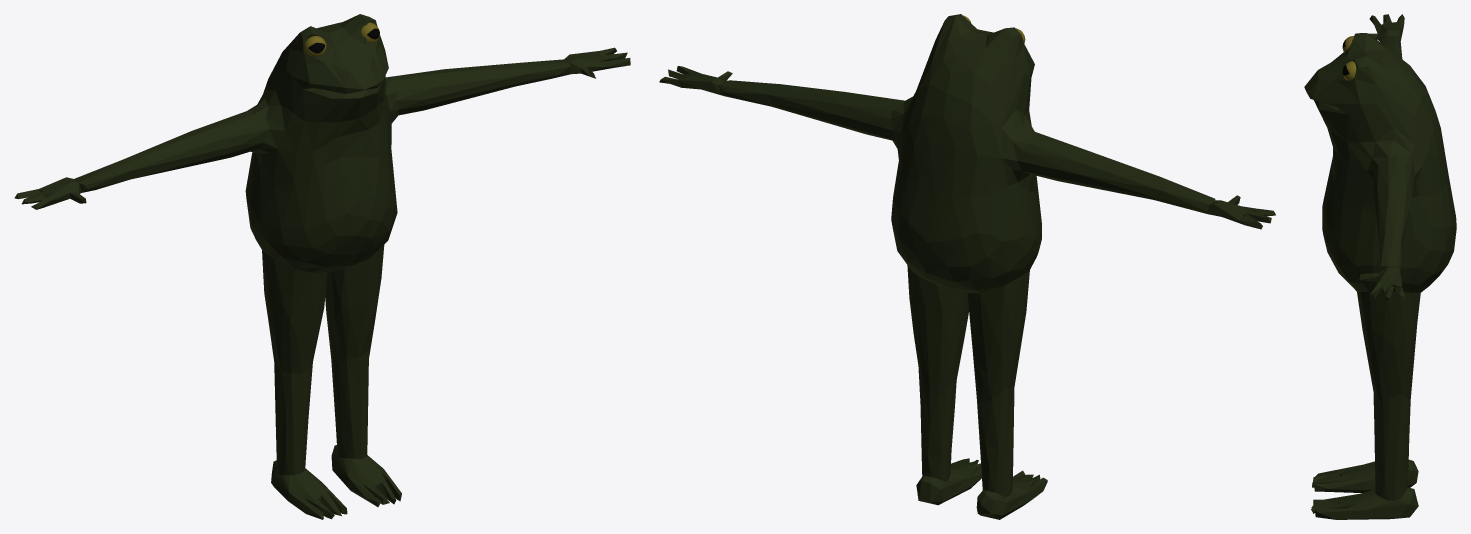
Rendered from SM_Onjiv.fbx.
3 renders of one model, left to right at view 1: azimuth 30°, elevation 25°; view 2: azimuth 150°, elevation 25°; view 3: azimuth 270°, elevation 25°, orthographic. The views are drawn at different scales.
Visible parts, largest first — view 1: SM_Onjiv; view 2: SM_Onjiv; view 3: SM_Onjiv.
Part boxes in pixels (x1,y1,x2,y2): SM_Onjiv: (14,14,630,519); SM_Onjiv: (659,14,1275,519); SM_Onjiv: (1304,14,1456,519).
Size of the model in its own units: 2.26 by 1.69 by 0.5125.
